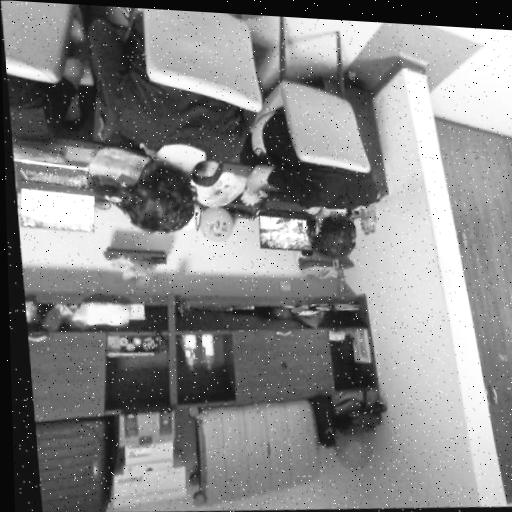balloon: (327, 434, 368, 477), (194, 205, 233, 246)
